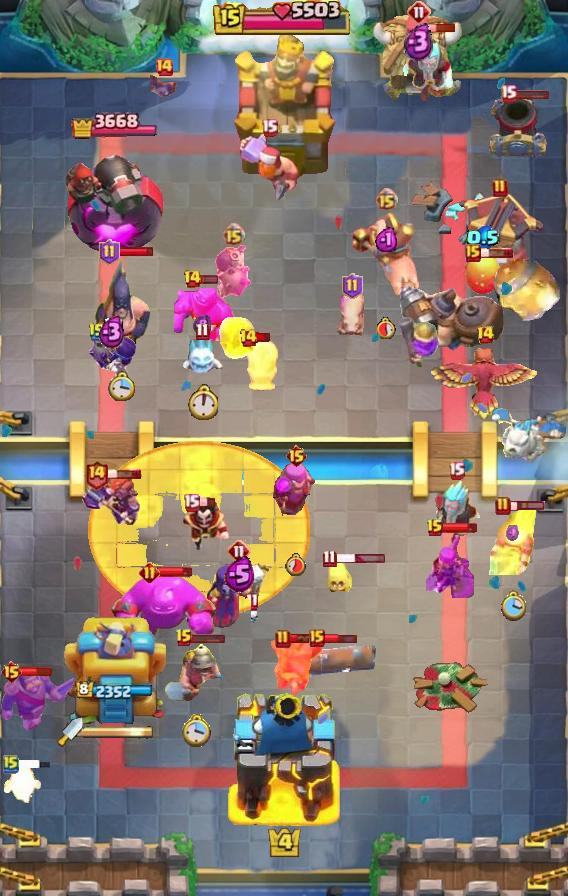archer-evolution: (426, 533, 474, 598)
bar: (334, 553, 386, 564), (323, 632, 358, 645), (509, 500, 546, 512), (16, 758, 52, 770), (190, 632, 226, 644), (157, 566, 193, 578), (442, 522, 478, 534), (106, 468, 142, 480), (478, 247, 514, 259), (514, 88, 550, 100), (118, 246, 155, 257), (289, 633, 324, 644), (19, 666, 53, 677), (421, 23, 456, 33), (197, 497, 216, 508), (200, 274, 219, 285), (255, 332, 272, 343)
bar-level: (84, 459, 109, 490), (227, 539, 251, 563), (407, 0, 431, 24), (0, 660, 23, 684), (285, 444, 308, 468), (342, 273, 363, 299), (99, 239, 120, 265), (222, 223, 245, 246), (375, 188, 398, 211), (139, 562, 160, 583), (154, 57, 174, 77), (239, 328, 258, 348), (476, 325, 495, 345), (183, 269, 202, 289), (175, 628, 193, 648), (426, 518, 444, 538), (88, 322, 106, 342), (183, 493, 200, 512), (448, 461, 465, 480), (261, 118, 278, 137), (500, 84, 517, 103), (3, 754, 19, 774), (275, 629, 291, 649), (495, 496, 511, 516), (492, 178, 508, 198), (309, 629, 325, 647), (465, 244, 481, 262), (322, 549, 337, 568), (195, 322, 210, 341)
bat: (150, 75, 178, 101)
bomber-evolution: (86, 330, 138, 386), (213, 245, 253, 303)
cannoneer-tower: (64, 138, 164, 256)
clock: (187, 384, 218, 420), (182, 712, 213, 747), (108, 371, 136, 401), (500, 590, 526, 622), (285, 553, 307, 576), (377, 317, 396, 339)
dagger-duchess-tower: (62, 611, 166, 731)
dagger-duchess-tower-bar: (83, 725, 155, 739)
dart-goblin: (266, 635, 324, 697)
electro-wizard: (180, 500, 230, 552)
elixir: (404, 22, 434, 61), (224, 556, 255, 593), (98, 314, 126, 349), (466, 225, 500, 251), (375, 226, 397, 252), (193, 314, 211, 336), (506, 524, 520, 542)
elixir-golem-mid: (174, 284, 236, 344)
executioner: (93, 255, 151, 355)
heal-spirit: (323, 555, 353, 601)
hog: (336, 287, 368, 337)
ice-spirit: (0, 761, 42, 803), (180, 339, 224, 377)
ice-wizard: (395, 33, 457, 105), (426, 477, 486, 549)
king-tower: (227, 688, 342, 826), (231, 34, 338, 181)
king-tower-bar: (213, 0, 355, 38)
knight: (0, 668, 74, 731)
lumberjack: (237, 134, 301, 204)
miner: (163, 638, 231, 704)
mortar: (487, 93, 549, 161)
mother-witch: (272, 458, 320, 526)
musketeer: (398, 317, 440, 369)
phoenix-egg: (463, 252, 503, 296)
royal-hog: (244, 335, 280, 395)
the-log: (276, 643, 378, 679)
tower-bar: (71, 109, 157, 143), (75, 681, 153, 701)
valkyrie-evolution: (80, 470, 140, 528)
witch: (205, 561, 273, 629)
wizard: (487, 503, 539, 575)
